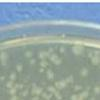white: (71, 42, 85, 55), (0, 51, 9, 67), (54, 80, 67, 89), (80, 67, 90, 78), (41, 92, 54, 100), (40, 50, 50, 60), (75, 93, 88, 100), (90, 85, 100, 94), (46, 69, 54, 80), (91, 57, 100, 66), (32, 87, 41, 96), (53, 91, 62, 100), (50, 52, 58, 62), (56, 57, 64, 67), (45, 86, 56, 93), (8, 71, 16, 80), (40, 60, 49, 68), (66, 75, 74, 84), (16, 62, 23, 72), (73, 84, 83, 91), (24, 50, 32, 58), (4, 80, 12, 88), (8, 87, 16, 94), (16, 83, 23, 91), (24, 84, 29, 95), (49, 46, 55, 54), (19, 90, 25, 98), (94, 51, 100, 58), (71, 94, 78, 100), (61, 34, 67, 40), (0, 76, 6, 82), (31, 58, 36, 65), (61, 47, 66, 54), (10, 95, 17, 100), (31, 97, 42, 100), (89, 96, 97, 100), (54, 44, 59, 50), (39, 67, 45, 72), (41, 81, 47, 86), (31, 82, 36, 87), (87, 52, 92, 57)
